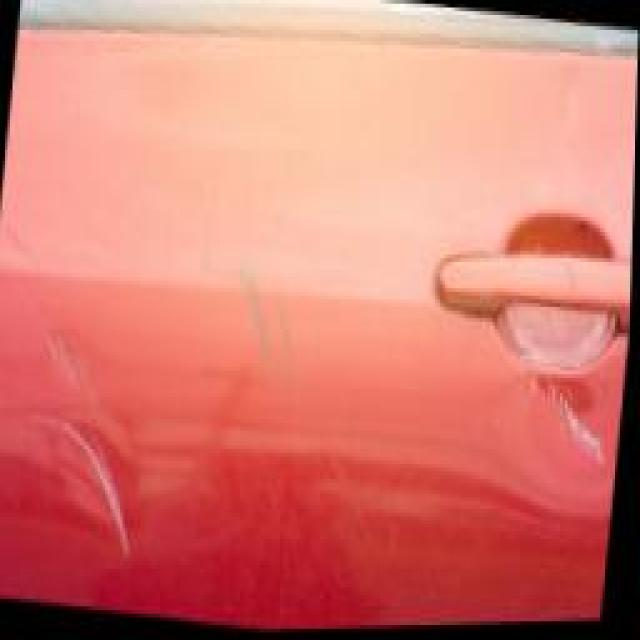Door: (0, 120, 638, 640)
